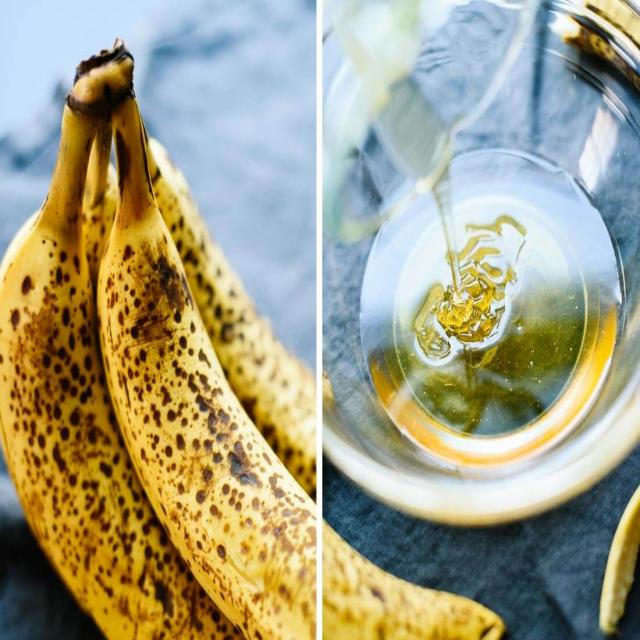banana: (0, 37, 502, 639)
honey: (358, 105, 627, 491)
